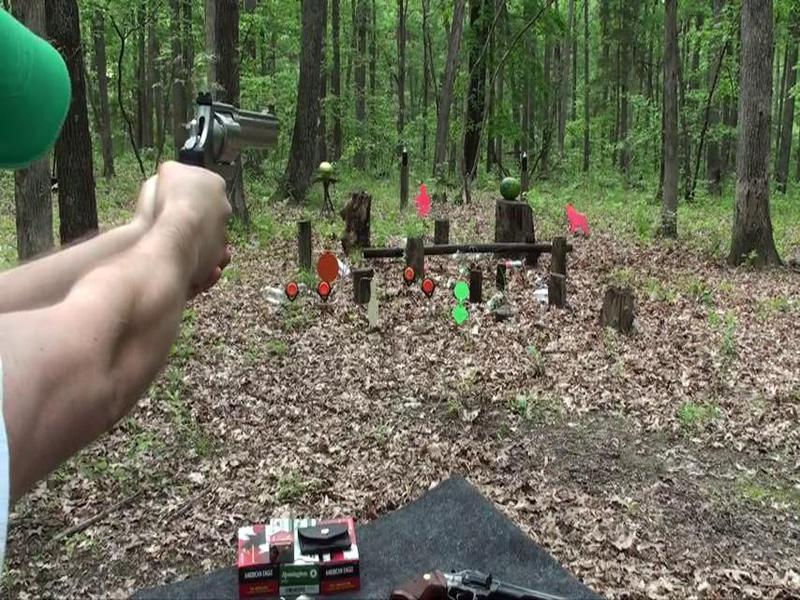Revolver: (147, 89, 294, 201)
